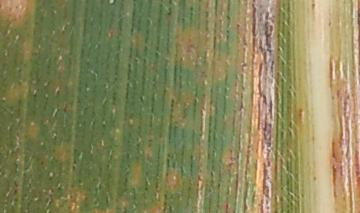tarspot: (62, 101, 70, 114), (165, 6, 174, 17), (310, 174, 318, 183), (143, 185, 150, 194), (310, 1, 316, 11), (54, 88, 62, 95), (326, 19, 333, 27), (12, 187, 19, 195), (170, 97, 175, 107), (38, 159, 45, 166), (100, 121, 107, 128), (329, 93, 335, 101), (235, 22, 241, 29), (104, 162, 110, 169), (153, 51, 160, 57), (167, 1, 173, 6)
